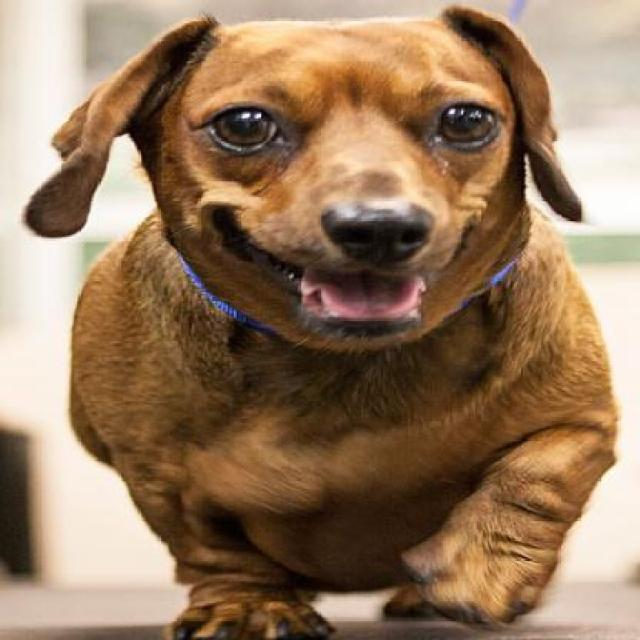Dog: (21, 4, 617, 638)
